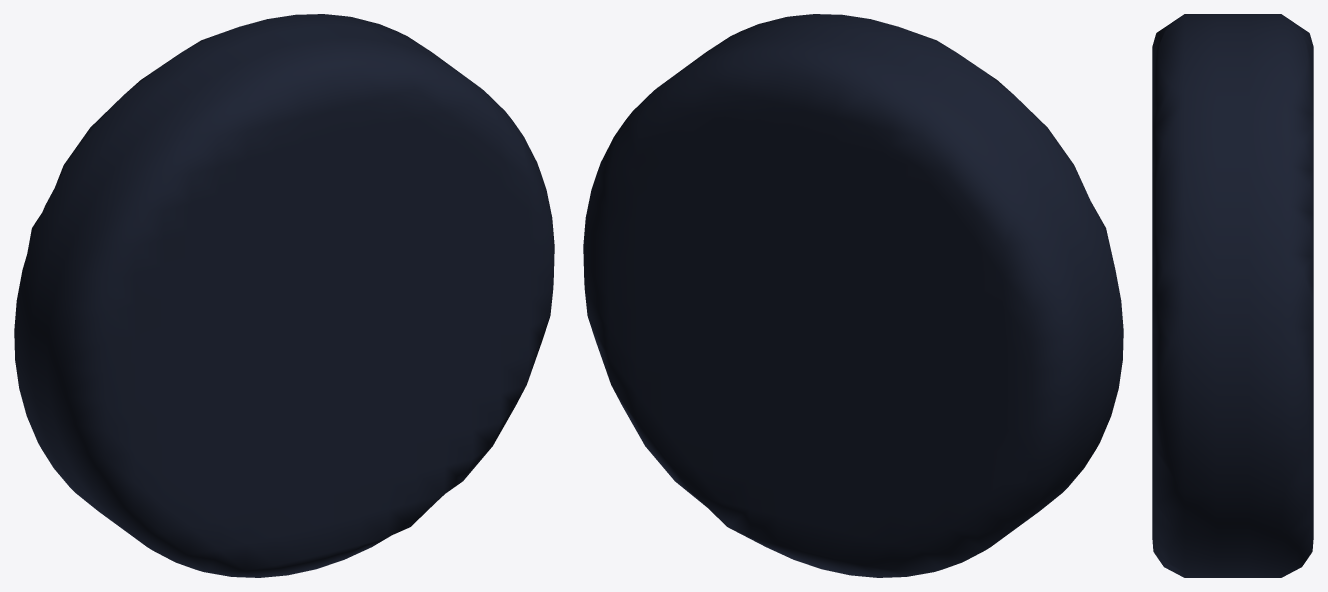
The model's file is 093_right_front_beamforming_microphone_port.glb.
The picture shows the model from 3 angles, left to right: view 1: azimuth 30°, elevation 25°; view 2: azimuth 150°, elevation 25°; view 3: azimuth 270°, elevation 25°; orthographic projection.
Parts seen in each view (by area): view 1: 093 | Right Front Beamforming Microphone Port; view 2: 093 | Right Front Beamforming Microphone Port; view 3: 093 | Right Front Beamforming Microphone Port.
Boxes of the visible parts, <box> form: 093 | Right Front Beamforming Microphone Port: <box>14,14,554,577</box>; 093 | Right Front Beamforming Microphone Port: <box>583,14,1123,577</box>; 093 | Right Front Beamforming Microphone Port: <box>1152,14,1313,577</box>.
Bounding box in the file's own units: 0.0014 × 0.0014 × 0.0004.
